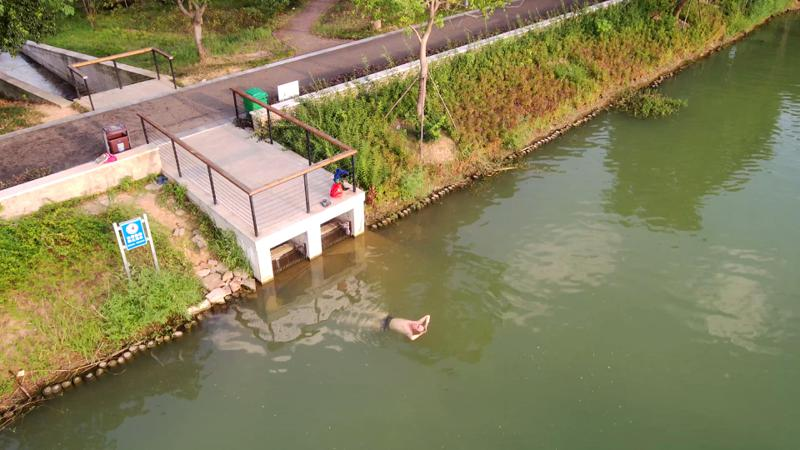swimmers: (336, 305, 431, 341)
